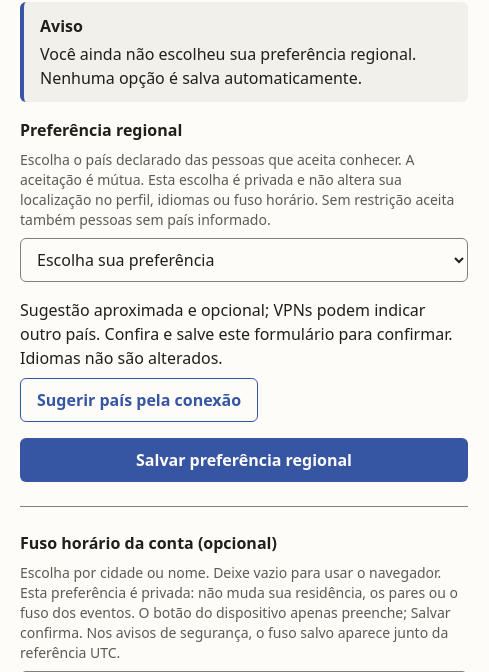
optional country suggestion › keeps a manual choice when detection finishes after editing, without disabling the manual fields
(page scrolled)
Click the button "Sugerir país pela conexão": (139,400) [20,378,258,422]
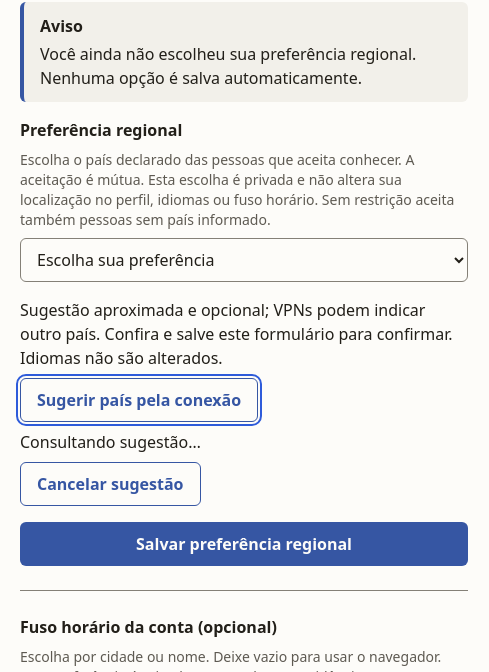
Select "Sem restrição de país" in the dropdown labelled "Preferência regional": (244,260) [20,238,468,282]
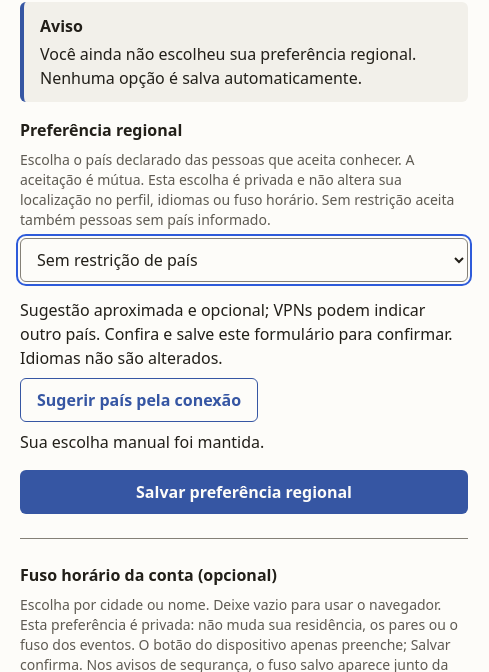
Expected: the text "Sua escolha manual foi mantida." is shown, [20,430,264,454]
